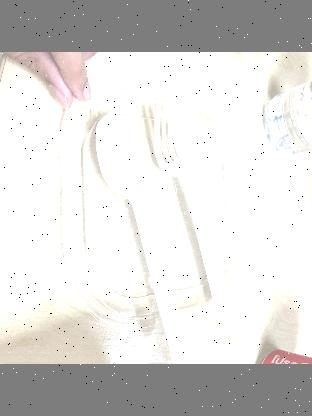Others: (96, 104, 184, 360), (151, 92, 231, 310)
